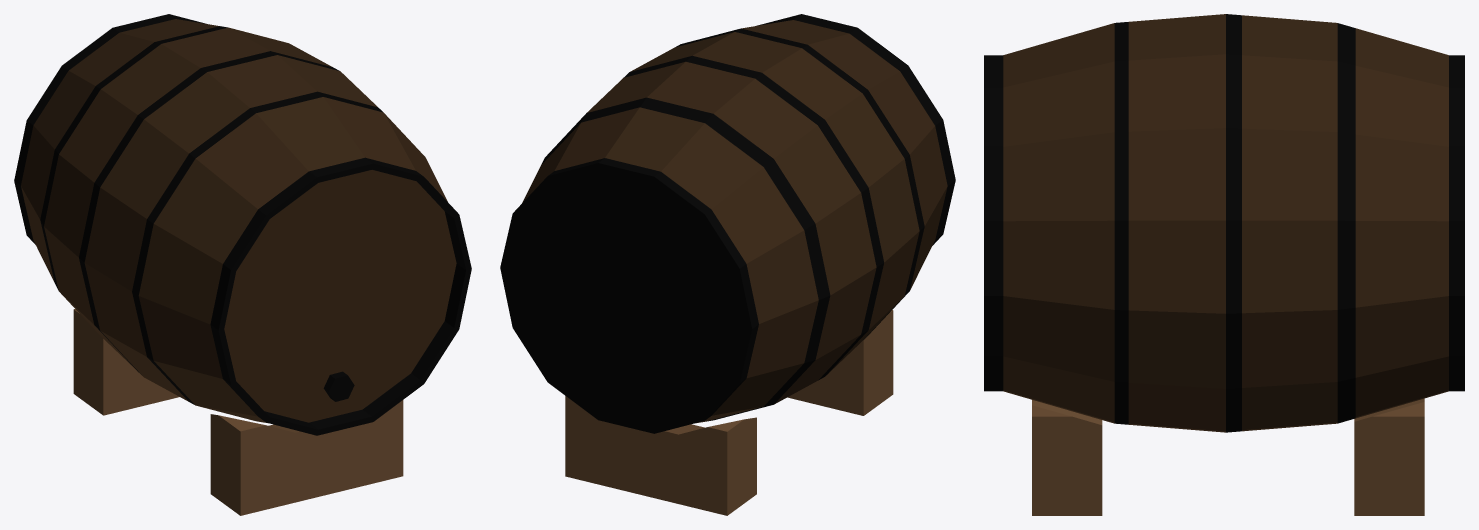
File: Barrel_002.fbx
The picture shows the model from 3 angles, left to right: view 1: azimuth 30°, elevation 25°; view 2: azimuth 150°, elevation 25°; view 3: azimuth 270°, elevation 25°; orthographic projection. The views are drawn at different scales.
Visible parts, largest first — view 1: barrel_002; view 2: barrel_002; view 3: barrel_002.
Part boxes in pixels (x1,y1,x2,y2): barrel_002: [14, 14, 471, 515]; barrel_002: [500, 14, 955, 515]; barrel_002: [984, 14, 1464, 515].
Bounding box in the file's own units: 122 × 137 × 137.
